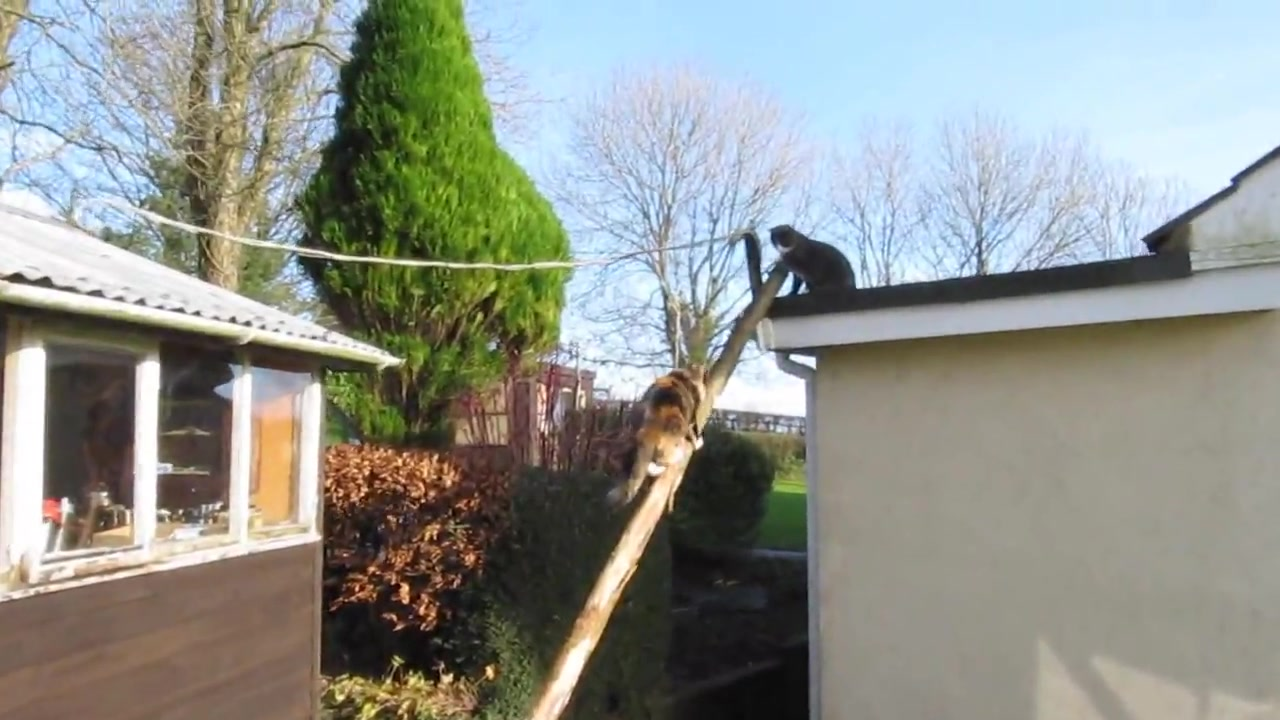cat: (601, 363, 714, 516)
